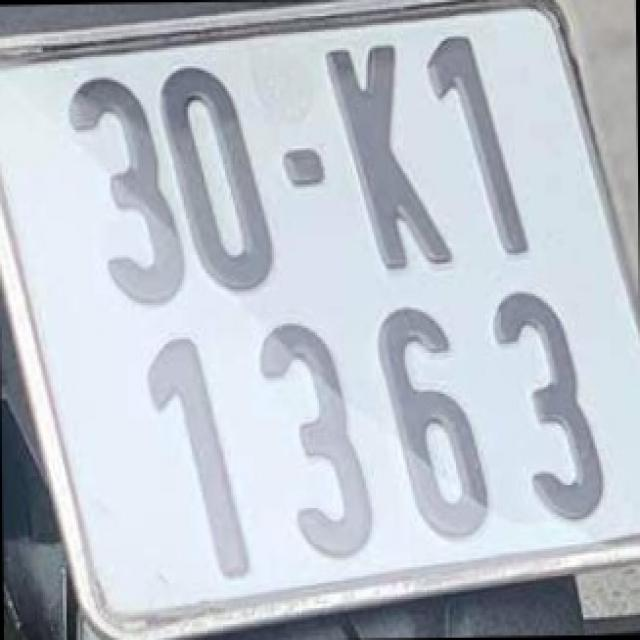0: (168, 56, 280, 298)
1: (138, 326, 256, 584), (431, 29, 538, 260)
3: (487, 284, 613, 526), (254, 314, 376, 563), (61, 69, 188, 308)
6: (376, 300, 496, 546)
K: (330, 36, 454, 274)
